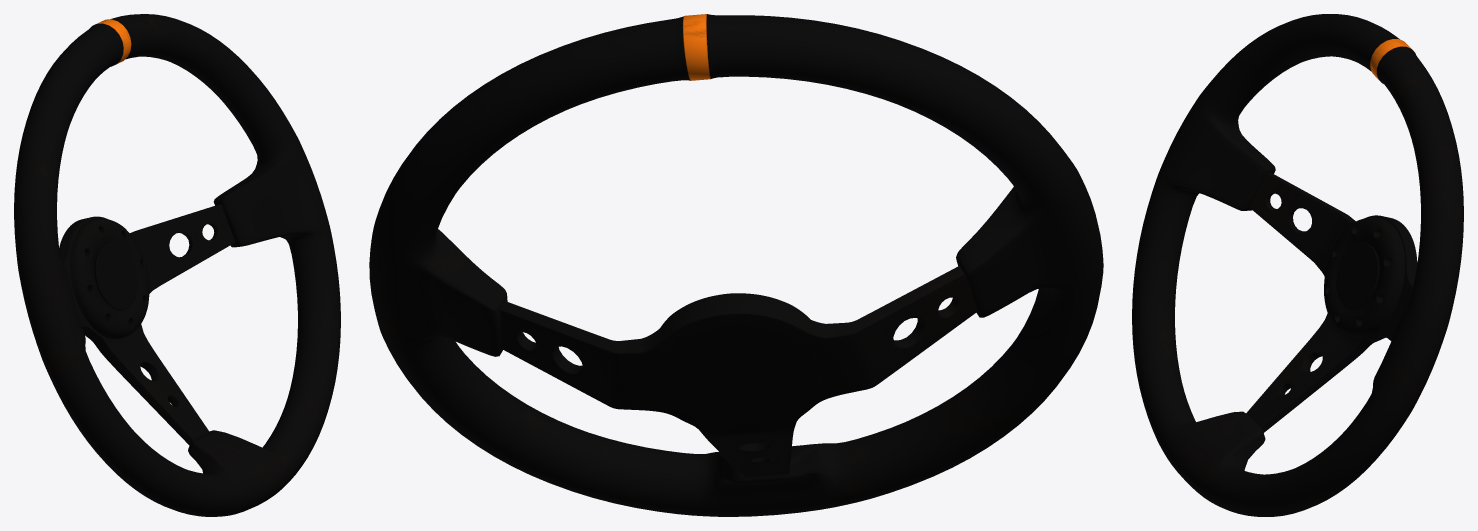
The model's file is steering_wheel.glb.
The picture shows the model from 3 angles, left to right: view 1: azimuth 30°, elevation 25°; view 2: azimuth 150°, elevation 25°; view 3: azimuth 270°, elevation 25°; orthographic projection. The views are drawn at different scales.
Visible parts, largest first — view 1: Base_low; view 2: Base_low; view 3: Base_low.
Boxes of the visible parts, left/top/right/bottom form: Base_low: left=14, top=14, right=340, bottom=516; Base_low: left=369, top=14, right=1103, bottom=516; Base_low: left=1132, top=14, right=1463, bottom=516.
Size of the model in its own units: 1.51 by 1.56 by 1.1.
1 material, 1 textured.
